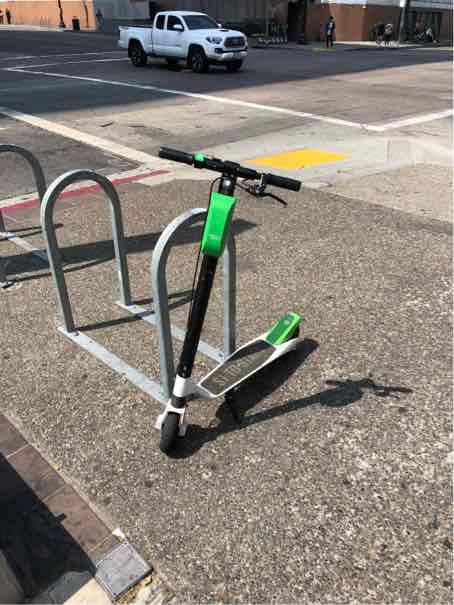scooter: (149, 141, 315, 470)
